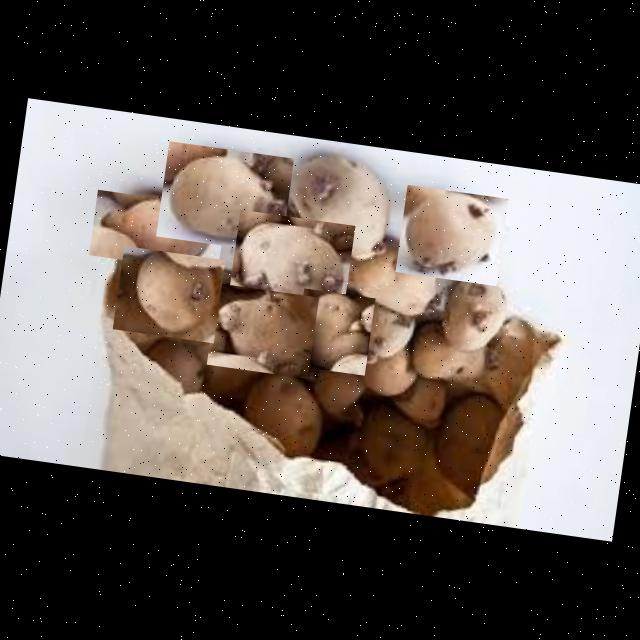Sprouted potato: (156, 141, 294, 254), (278, 147, 410, 265), (227, 210, 356, 323), (88, 190, 226, 273), (396, 185, 508, 286), (112, 246, 225, 343), (336, 236, 454, 328), (207, 284, 319, 378), (434, 268, 522, 356), (294, 288, 376, 376), (357, 298, 426, 374)
